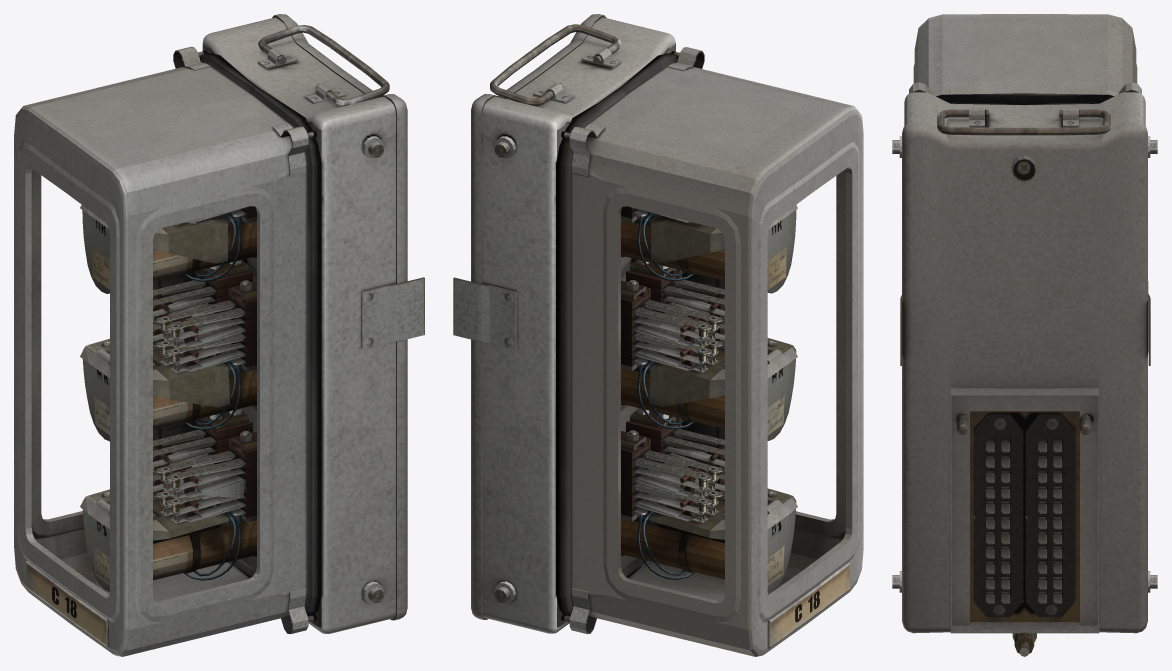
3 renders of one model, left to right at view 1: azimuth 30°, elevation 25°; view 2: azimuth 150°, elevation 25°; view 3: azimuth 270°, elevation 25°, orthographic. The views are drawn at different scales.
Visible parts, largest first — view 1: C_18, ya005, ya004, ya006, k007, k009, p006, p005; view 2: C_18, ya005, ya004, ya006, k009, k007, p005; view 3: C_18.
Part boxes in pixels (left/top/right/bottom): C_18: left=14, top=14, right=424, bottom=656; ya005: left=80, top=333, right=229, bottom=441; ya004: left=80, top=205, right=227, bottom=293; ya006: left=82, top=484, right=228, bottom=591; k007: left=153, top=294, right=245, bottom=340; k009: left=153, top=445, right=245, bottom=491; p006: left=153, top=446, right=198, bottom=517; p005: left=153, top=296, right=199, bottom=366; C_18: left=453, top=14, right=863, bottom=656; ya005: left=649, top=333, right=797, bottom=440; ya004: left=651, top=205, right=797, bottom=293; ya006: left=650, top=483, right=796, bottom=591; k009: left=633, top=444, right=724, bottom=490; k007: left=633, top=294, right=724, bottom=340; p005: left=679, top=296, right=724, bottom=366; C_18: left=892, top=14, right=1157, bottom=656.
Bounding box in the file's own units: 0.1742 × 0.2963 × 0.1347.
